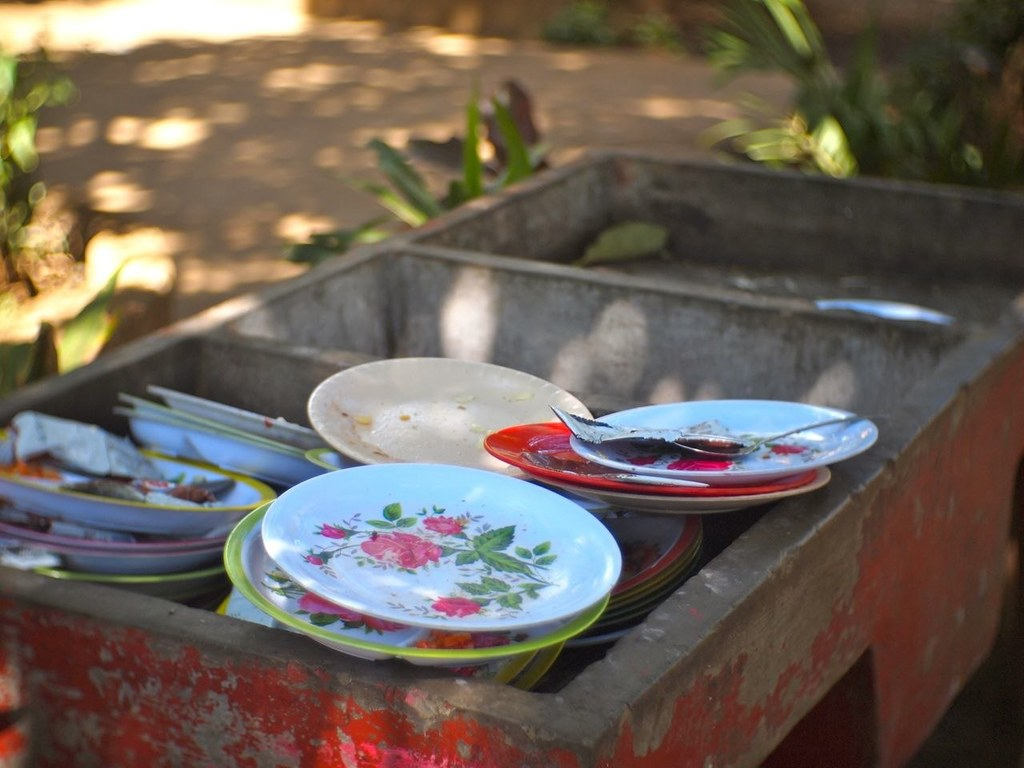plate: (231, 479, 617, 656), (265, 459, 617, 620), (485, 405, 828, 509), (12, 417, 277, 551), (556, 383, 875, 476), (115, 381, 336, 464), (588, 516, 707, 655), (156, 379, 344, 455), (0, 517, 255, 572), (109, 408, 317, 464), (595, 497, 701, 588), (75, 567, 236, 603)
